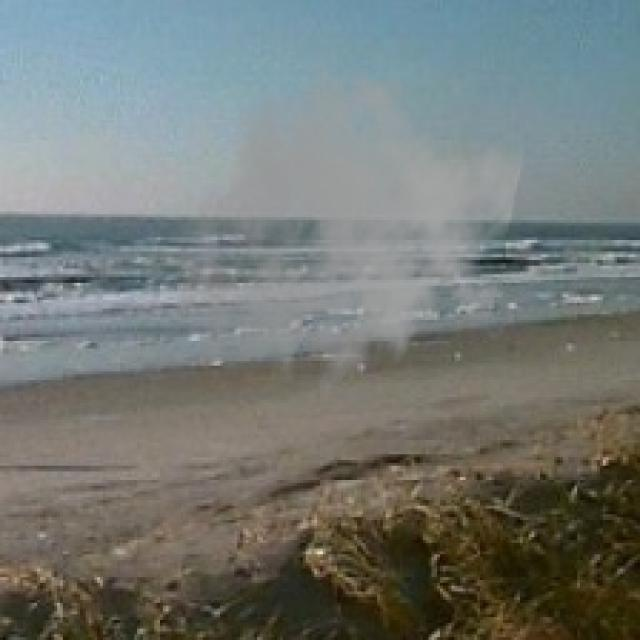smoke: (168, 54, 526, 417)
